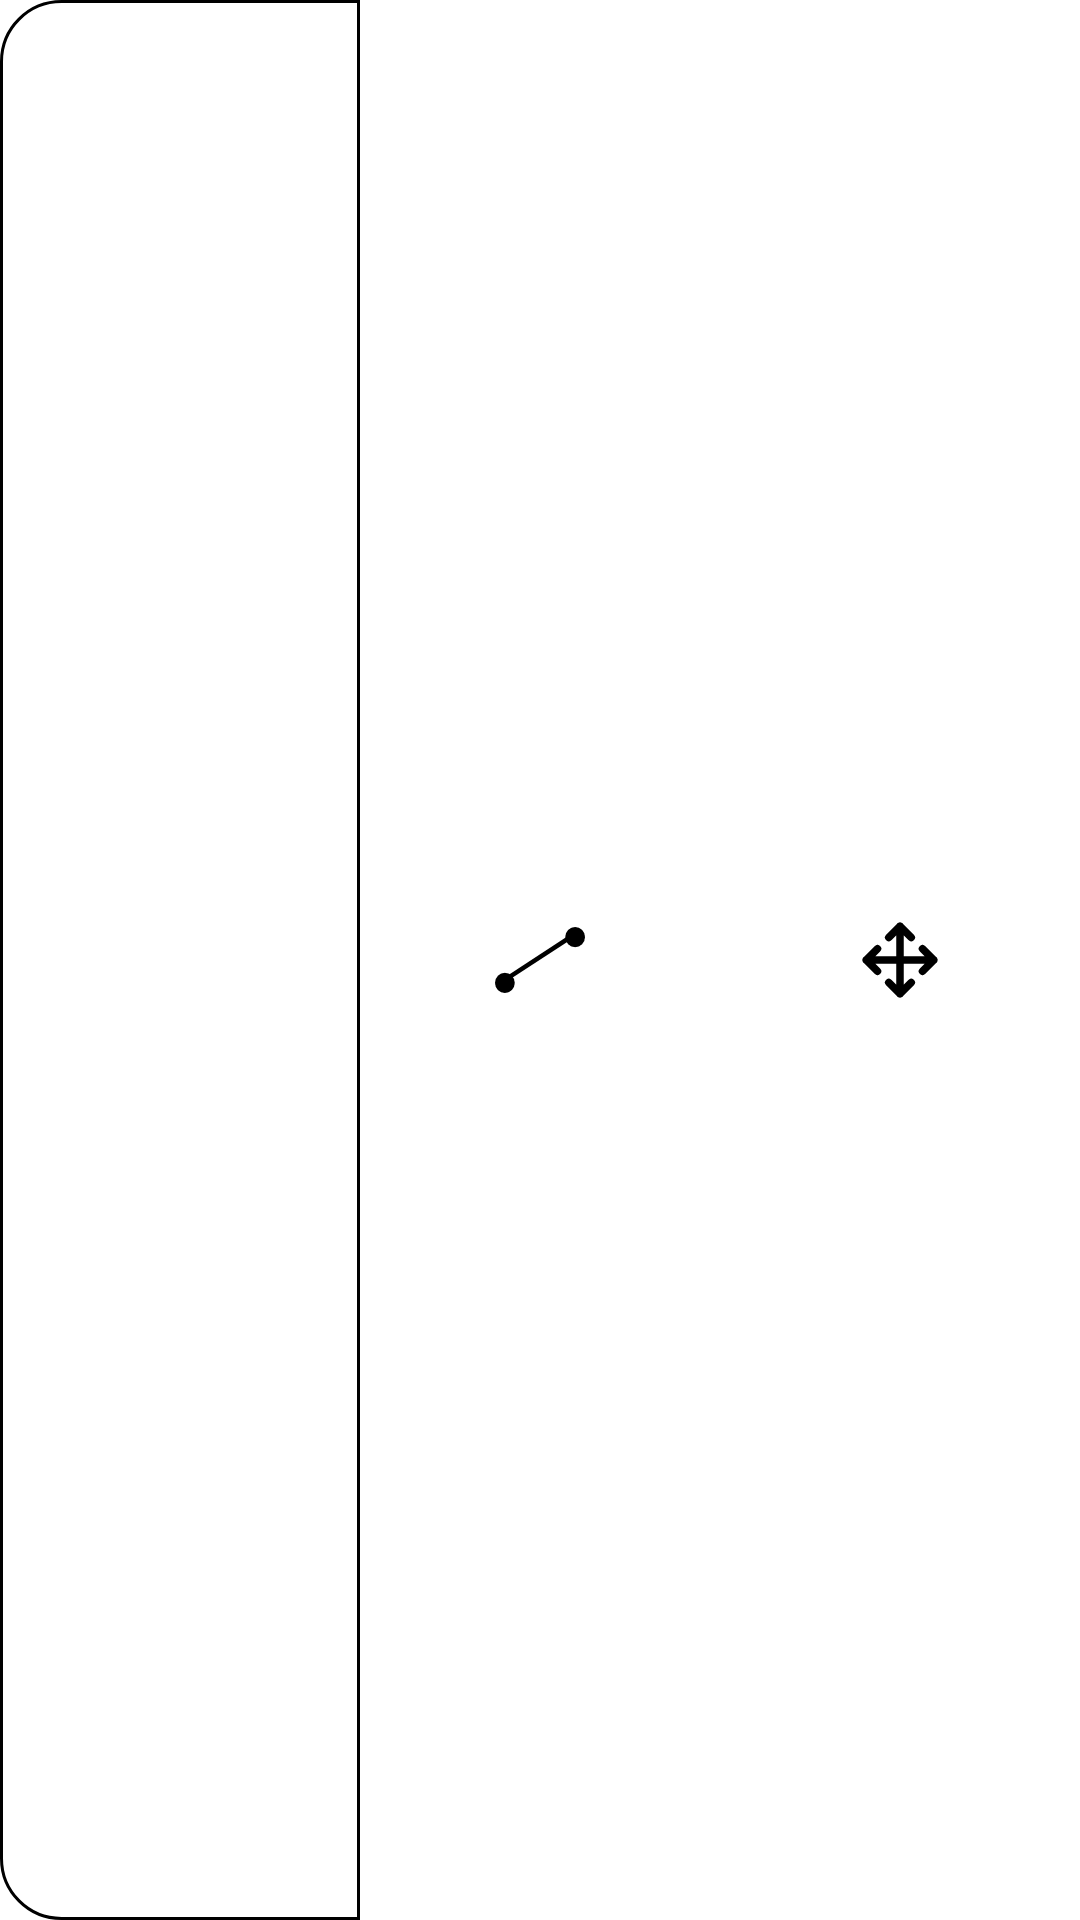

Named icons in this screenshot (1080w x 1920h) and their bounding boxes, (x1, y1, x2, y2):
Режим додавання ребер: (495, 927, 585, 993)
Режим переміщення: (862, 922, 938, 998)
